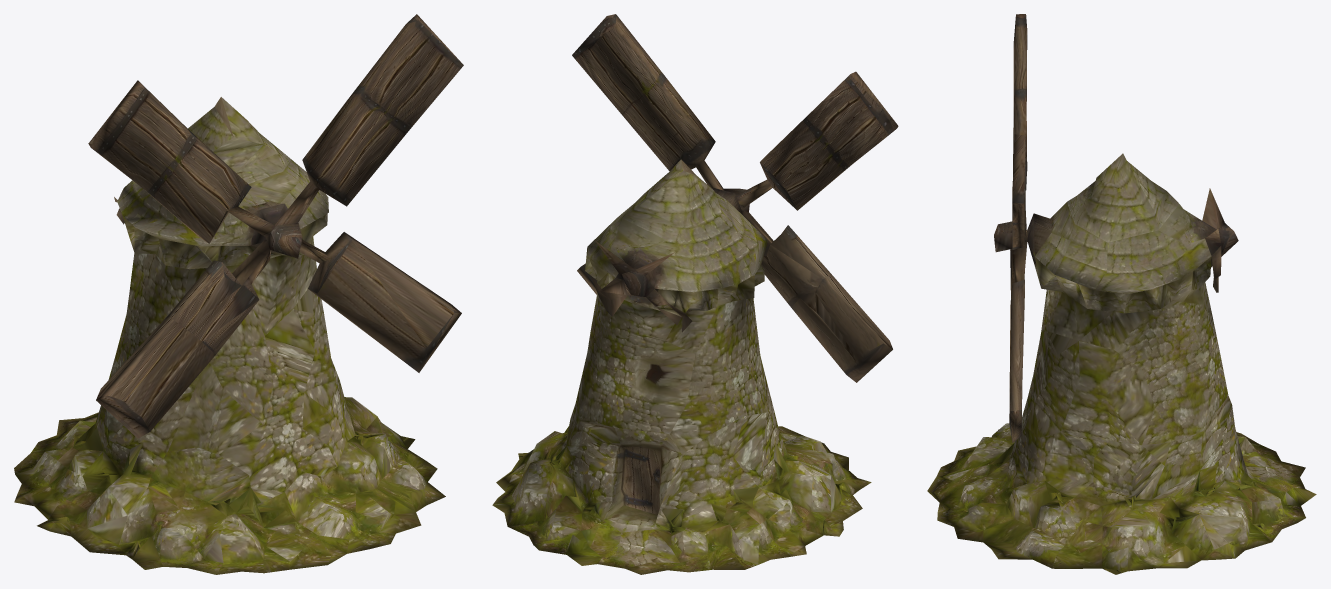
The model's file is land_mill_far.obj.
The picture shows the model from 3 angles, left to right: view 1: azimuth 30°, elevation 25°; view 2: azimuth 150°, elevation 25°; view 3: azimuth 270°, elevation 25°; orthographic projection. The views are drawn at different scales.
Parts seen in each view (by area): view 1: land_mill_far; view 2: land_mill_far; view 3: land_mill_far.
Part boxes in pixels (<box>): land_mill_far: <box>14,14,463,574</box>; land_mill_far: <box>492,14,898,574</box>; land_mill_far: <box>927,14,1316,574</box>.
Bounding box in the file's own units: 5.83 × 6.97 × 5.86.
1 material, 1 textured.
